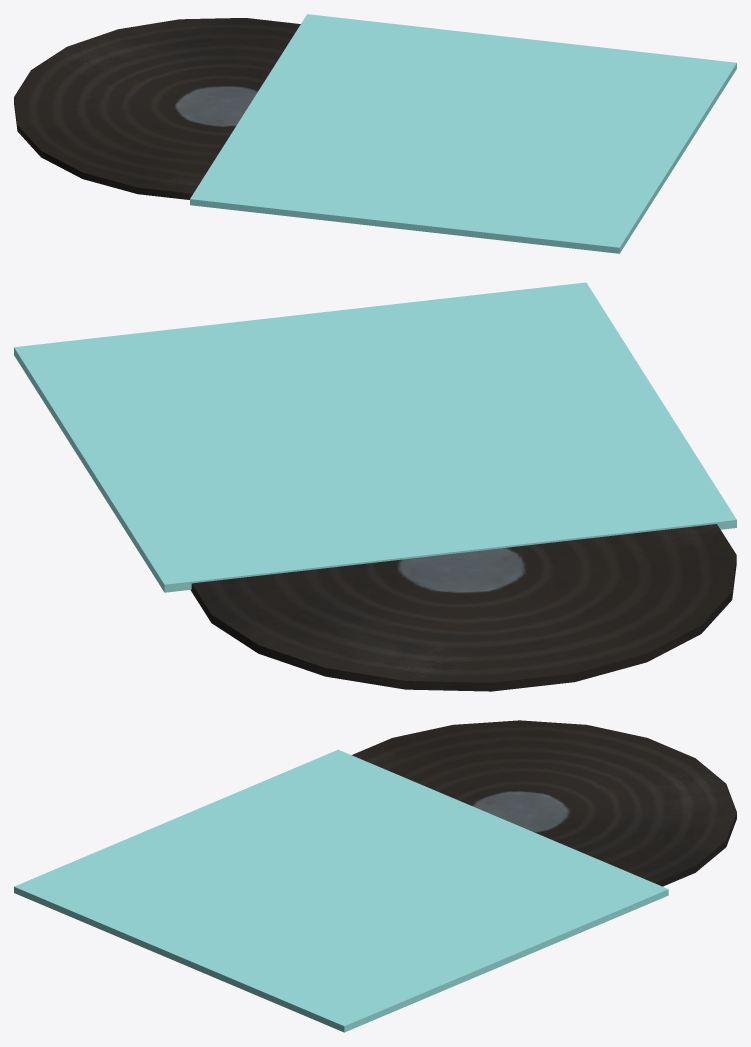
The model's file is special_record.fbx.
3 renders of one model, top to bottom at view 1: azimuth 30°, elevation 25°; view 2: azimuth 150°, elevation 25°; view 3: azimuth 270°, elevation 25°, orthographic. The views are drawn at different scales.
Visible parts, largest first — view 1: pCube22, polySurface112; view 2: pCube22, polySurface112; view 3: pCube22, polySurface112.
Part boxes in pixels (box(x1,y1,x2,y2)): pCube22: box(190, 14, 736, 253); polySurface112: box(14, 18, 300, 199); pCube22: box(14, 282, 736, 592); polySurface112: box(190, 524, 736, 691); pCube22: box(14, 749, 668, 1032); polySurface112: box(352, 720, 736, 886).
Bounding box in the file's own units: 396 × 4.92 × 393.
